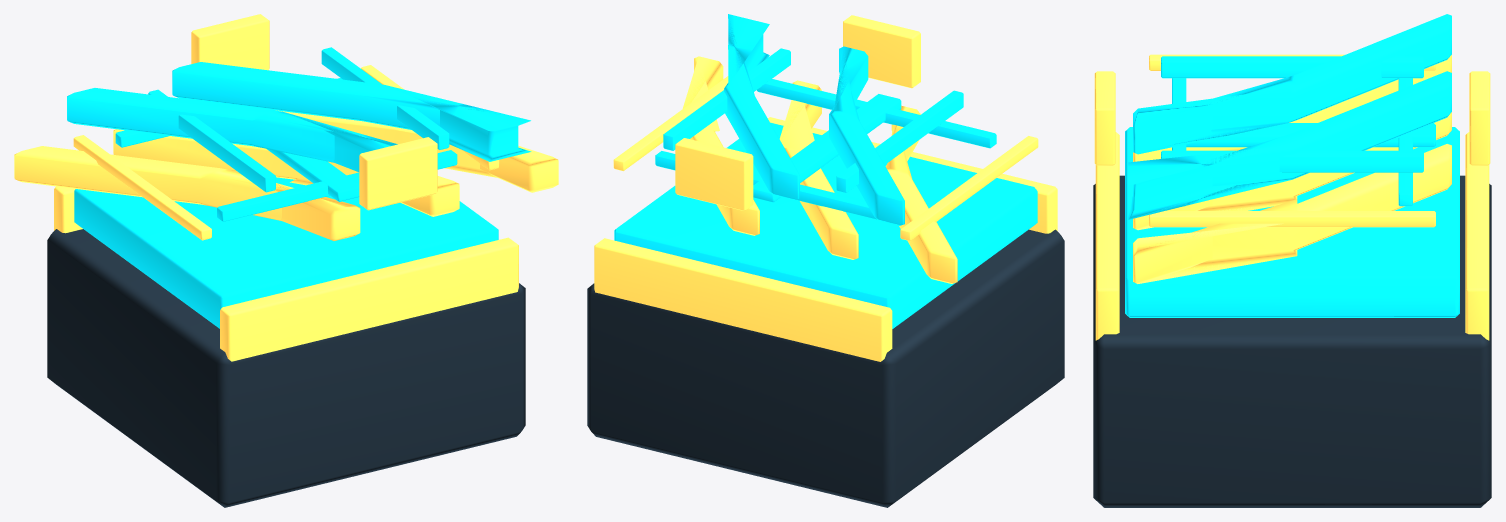
File: speed_pad.glb
3 renders of one model, left to right at view 1: azimuth 30°, elevation 25°; view 2: azimuth 150°, elevation 25°; view 3: azimuth 270°, elevation 25°, orthographic. The views are drawn at different scales.
Parts seen in each view (by area): view 1: SpeedPadBase, SpeedPadInset, SpeedPadRightGuard, SpeedPadRaisedArrowB, SpeedPadRaisedArrowA, SpeedPadChevronA, SpeedPadChevronB, SpeedPadSideBeaconR, SpeedPadChevronC, SpeedPadSideBeaconL, SpeedPadEntryGlow, SpeedPadCyanWakeA (+4 smaller); view 2: SpeedPadBase, SpeedPadInset, SpeedPadLeftGuard, SpeedPadRaisedArrowB, SpeedPadRaisedArrowA, SpeedPadSideBeaconL, SpeedPadChevronB, SpeedPadSideBeaconR, SpeedPadChevronA, SpeedPadFlowRight, SpeedPadEntryGlow, SpeedPadHotCenter (+6 smaller); view 3: SpeedPadBase, SpeedPadInset, SpeedPadRaisedArrowB, SpeedPadRaisedArrowA, SpeedPadChevronC, SpeedPadExitGlow, SpeedPadCyanWakeA, SpeedPadLeftGuard, SpeedPadRightGuard, SpeedPadCyanWakeB, SpeedPadChevronB, SpeedPadHotCenter (+6 smaller).
Part boxes in pixels (x1,y1,x2,y2): SpeedPadBase: (47, 229, 525, 507); SpeedPadInset: (74, 177, 498, 328); SpeedPadRightGuard: (220, 237, 518, 361); SpeedPadRaisedArrowB: (172, 62, 531, 161); SpeedPadRaisedArrowA: (67, 88, 397, 171); SpeedPadChevronA: (14, 146, 360, 240); SpeedPadChevronB: (113, 129, 459, 216); SpeedPadSideBeaconR: (359, 137, 437, 210); SpeedPadChevronC: (276, 110, 558, 192); SpeedPadSideBeaconL: (191, 14, 269, 70); SpeedPadEntryGlow: (73, 135, 211, 240); SpeedPadCyanWakeA: (148, 89, 275, 192); SpeedPadBase: (587, 229, 1064, 507); SpeedPadInset: (614, 122, 1037, 328); SpeedPadLeftGuard: (594, 238, 892, 361); SpeedPadRaisedArrowB: (724, 14, 799, 200); SpeedPadRaisedArrowA: (829, 46, 904, 225); SpeedPadSideBeaconL: (675, 138, 753, 210); SpeedPadChevronB: (779, 80, 858, 259); SpeedPadSideBeaconR: (843, 15, 920, 88); SpeedPadChevronA: (885, 105, 957, 283); SpeedPadFlowRight: (757, 79, 996, 148); SpeedPadEntryGlow: (900, 136, 1038, 240); SpeedPadHotCenter: (753, 94, 901, 202); SpeedPadBase: (1093, 175, 1491, 507); SpeedPadInset: (1125, 127, 1459, 317); SpeedPadRaisedArrowB: (1128, 71, 1451, 219); SpeedPadRaisedArrowA: (1133, 14, 1451, 154); SpeedPadChevronC: (1133, 144, 1451, 283); SpeedPadExitGlow: (1149, 211, 1435, 227); SpeedPadCyanWakeA: (1161, 56, 1423, 78); SpeedPadLeftGuard: (1465, 132, 1489, 340); SpeedPadRightGuard: (1095, 132, 1119, 340); SpeedPadCyanWakeB: (1161, 150, 1423, 172); SpeedPadChevronB: (1133, 112, 1451, 230); SpeedPadHotCenter: (1186, 123, 1435, 147).
Size of the model in its own units: 0.6523 by 0.49 by 0.5.
